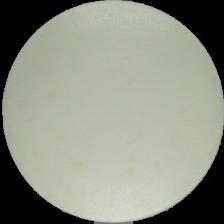61442-126: (0, 0, 224, 224)
